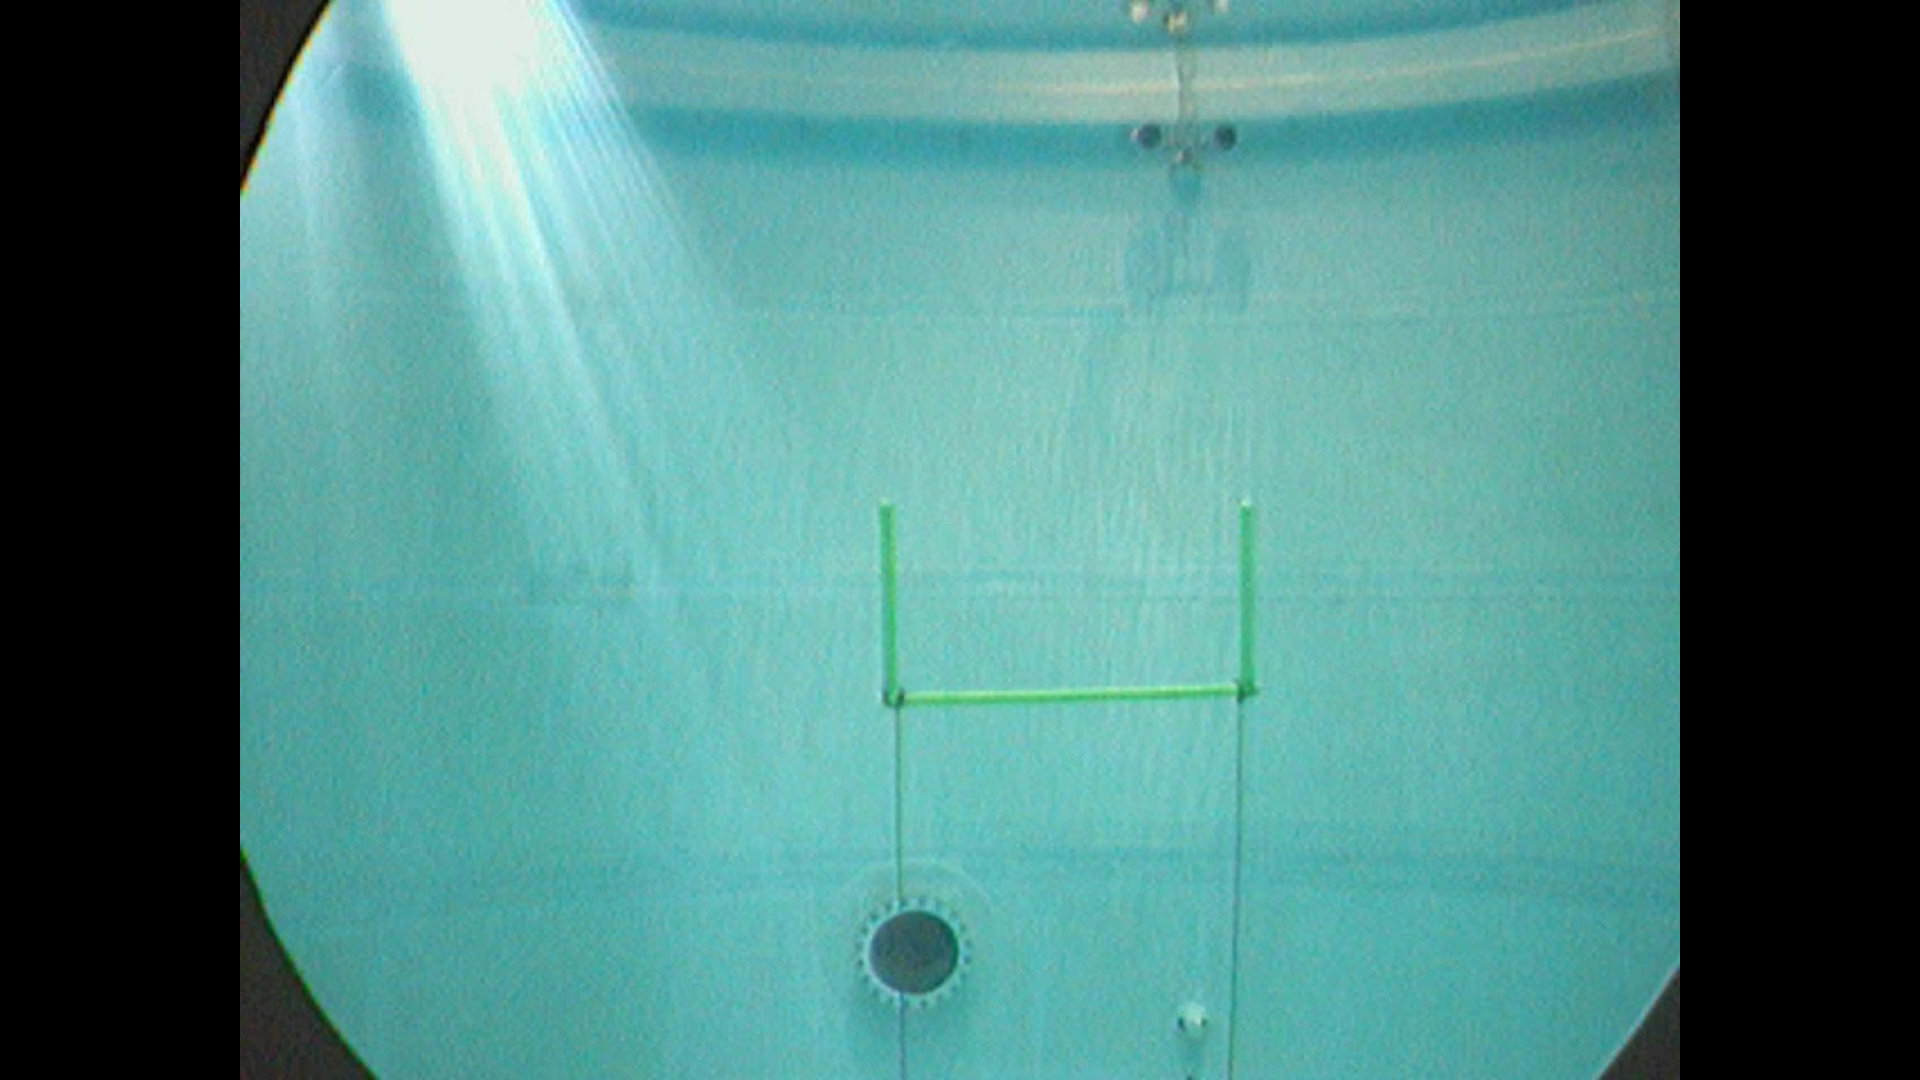gate: (873, 487, 1267, 717)
